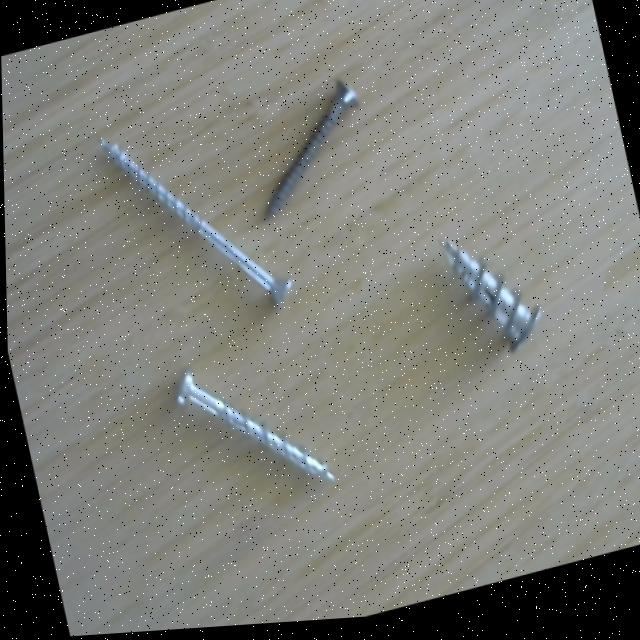Black screw: (233, 65, 391, 230)
Long screw: (91, 94, 298, 353)
Medium screw: (165, 336, 341, 528)
Short screw: (437, 221, 552, 380)
